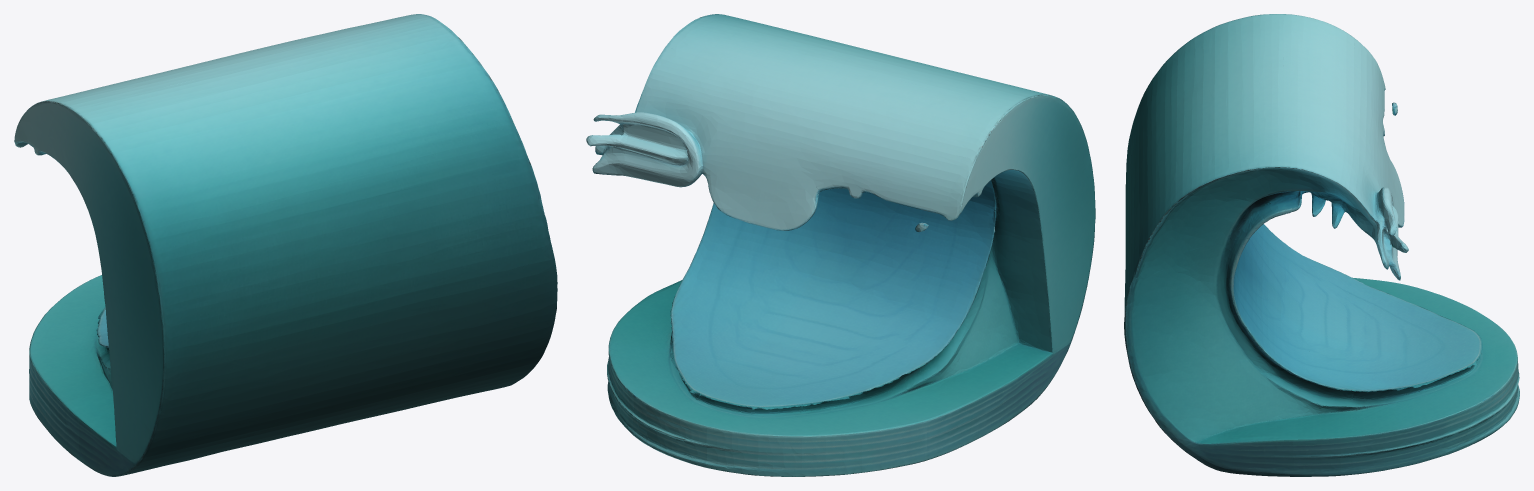
Rendered from water.glb.
3 views of the same model, side by side, from view 1: azimuth 30°, elevation 25°; view 2: azimuth 150°, elevation 25°; view 3: azimuth 270°, elevation 25° (orthographic). The views are drawn at different scales.
Visible parts, largest first — view 1: geometry_0; view 2: geometry_0; view 3: geometry_0.
Part boxes in pixels (x1,y1,x2,y2): geometry_0: (14,14,557,476); geometry_0: (586,14,1095,476); geometry_0: (1124,14,1519,476).
Size of the model in its own units: 0.9992 by 0.8261 by 0.9954.
1 material, 1 textured.
